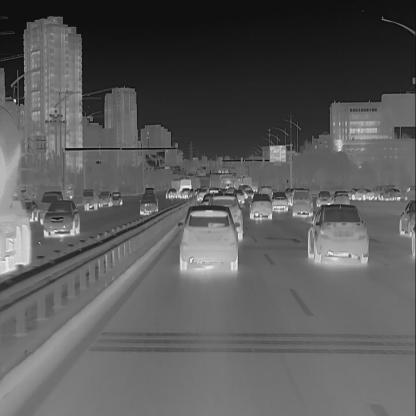bus: (171, 176, 192, 196)
car: (178, 202, 240, 273), (307, 201, 370, 264), (206, 194, 244, 242), (41, 199, 81, 237), (40, 190, 65, 224), (290, 188, 314, 218), (249, 191, 272, 219), (398, 199, 415, 235), (139, 192, 159, 217), (21, 196, 39, 223), (377, 186, 402, 203), (271, 190, 289, 212), (352, 186, 375, 202), (332, 190, 349, 206), (98, 190, 113, 207), (316, 190, 331, 206), (200, 193, 218, 205), (238, 183, 252, 197), (110, 191, 123, 206), (234, 188, 246, 204), (259, 184, 273, 197), (64, 183, 74, 199), (165, 186, 177, 199), (179, 187, 192, 199), (144, 186, 156, 198), (196, 188, 206, 202), (226, 184, 235, 194)
truck: (0, 85, 52, 293), (284, 186, 306, 208), (82, 186, 98, 210), (240, 174, 253, 191)
